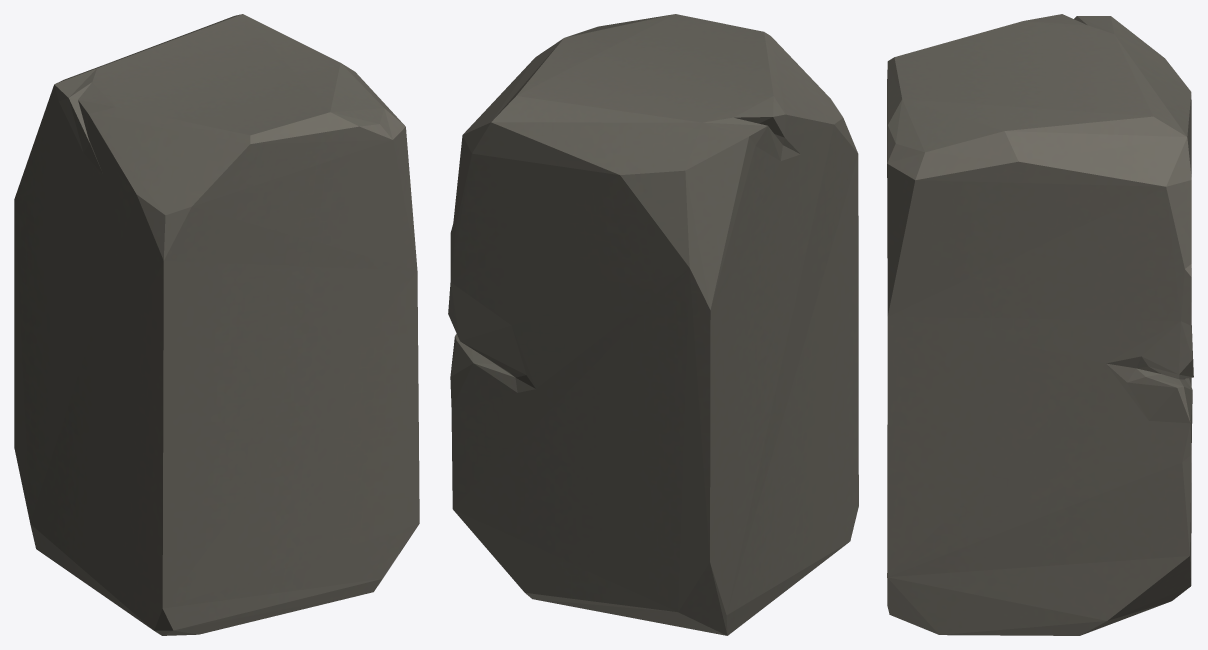
File: Rock_Block_2.fbx
3 views of the same model, side by side, from view 1: azimuth 30°, elevation 25°; view 2: azimuth 150°, elevation 25°; view 3: azimuth 270°, elevation 25° (orthographic). The views are drawn at different scales.
Visible parts, largest first — view 1: Group25428; view 2: Group25428; view 3: Group25428.
Boxes of the visible parts, <box> form: Group25428: <box>14,14,419,635</box>; Group25428: <box>448,14,858,635</box>; Group25428: <box>887,14,1193,635</box>.
Bounding box in the file's own units: 101 × 180 × 101.
1 material, 1 textured.
